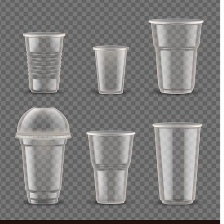glass: (12, 103, 72, 208), (144, 14, 207, 98), (148, 118, 202, 208), (85, 125, 138, 207), (21, 28, 67, 95), (90, 41, 132, 97)
